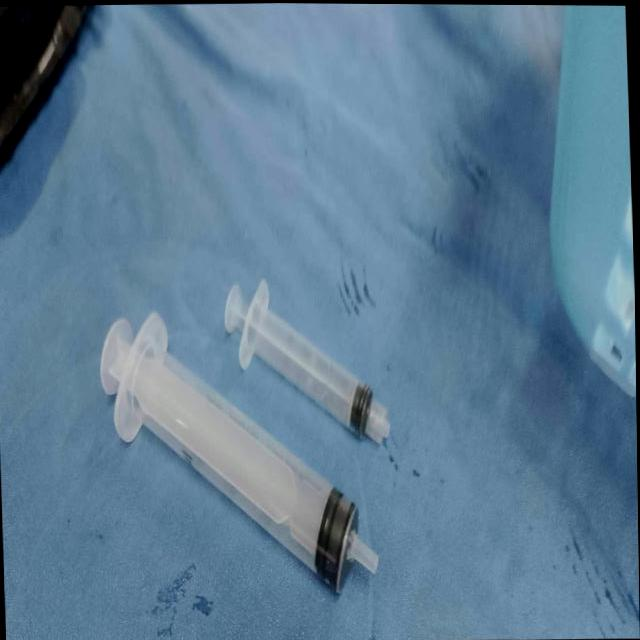General: (1, 5, 635, 638), (546, 5, 637, 399)
Sharps: (97, 311, 379, 595), (222, 278, 392, 446)
